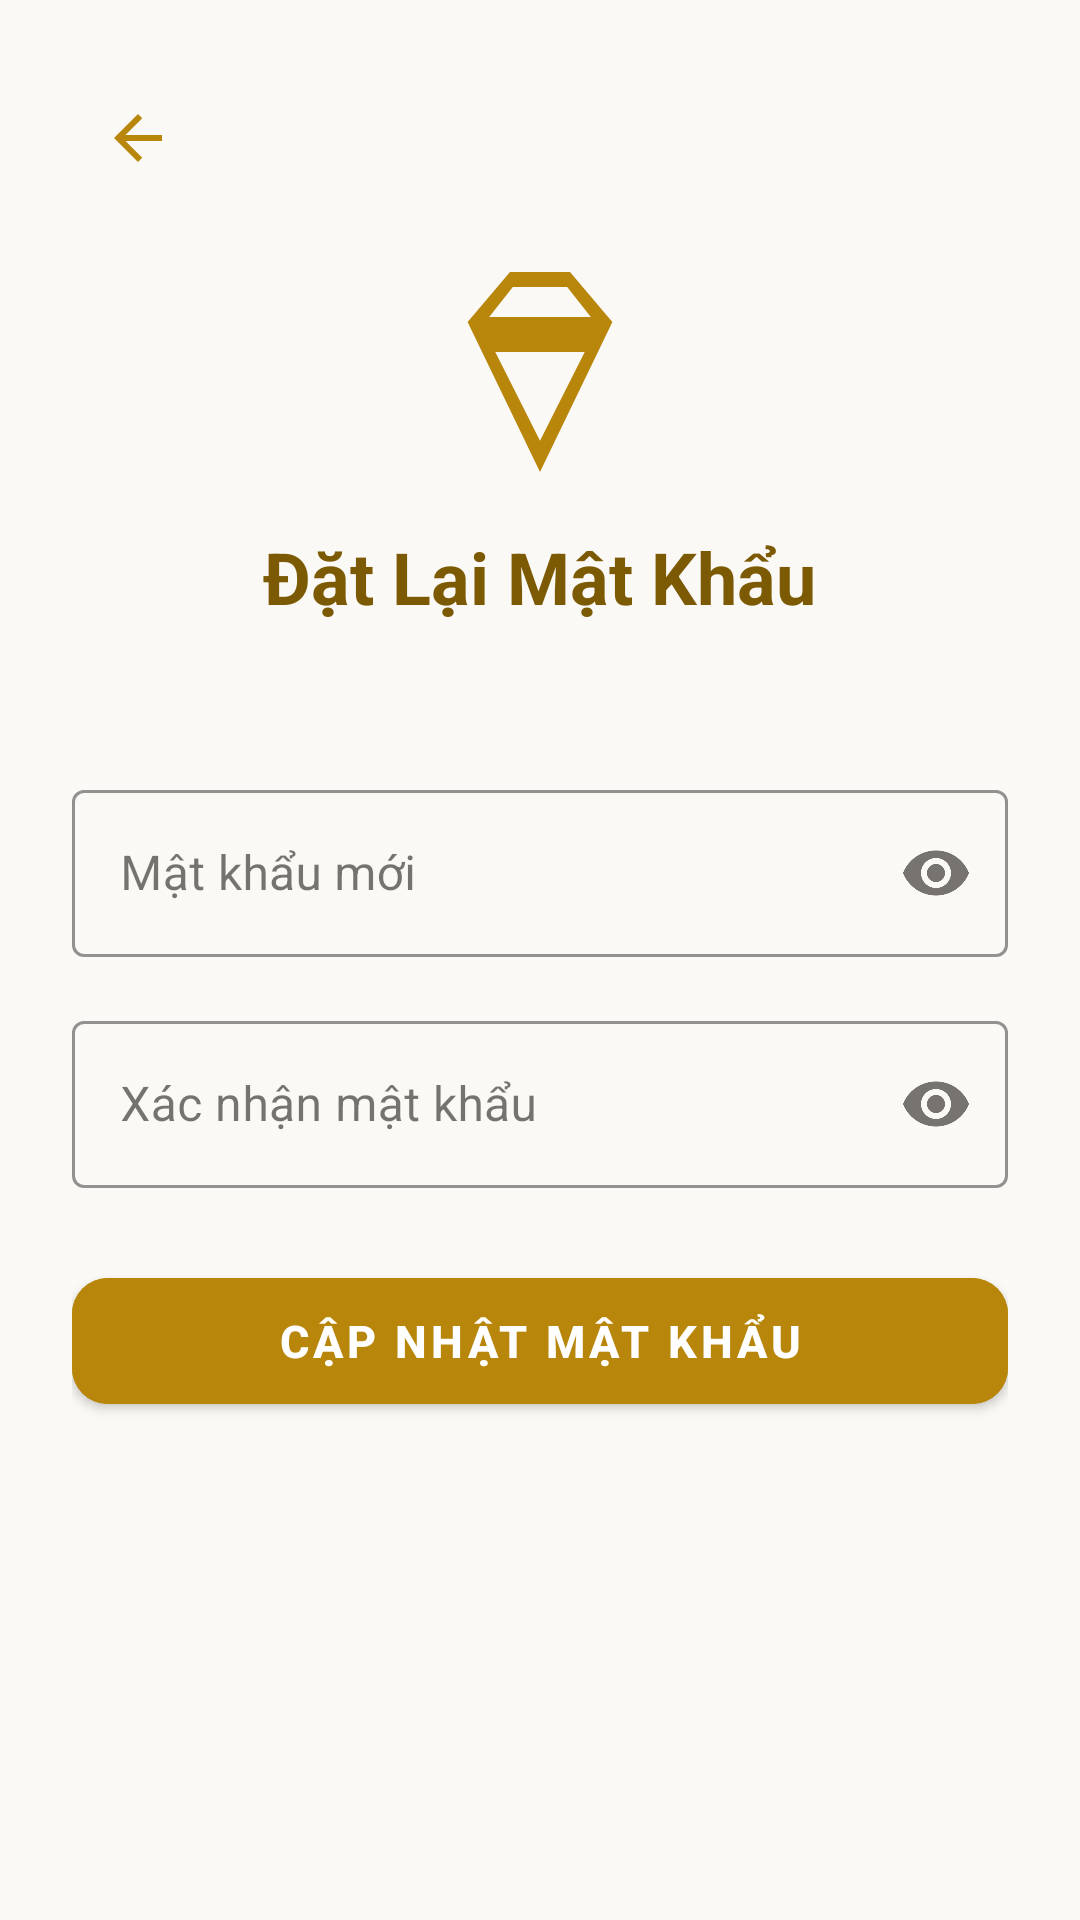

Point at icon controls on the screen. Image size 1080 × 1920, points as (x,y).
Quay lại: (138,138)
